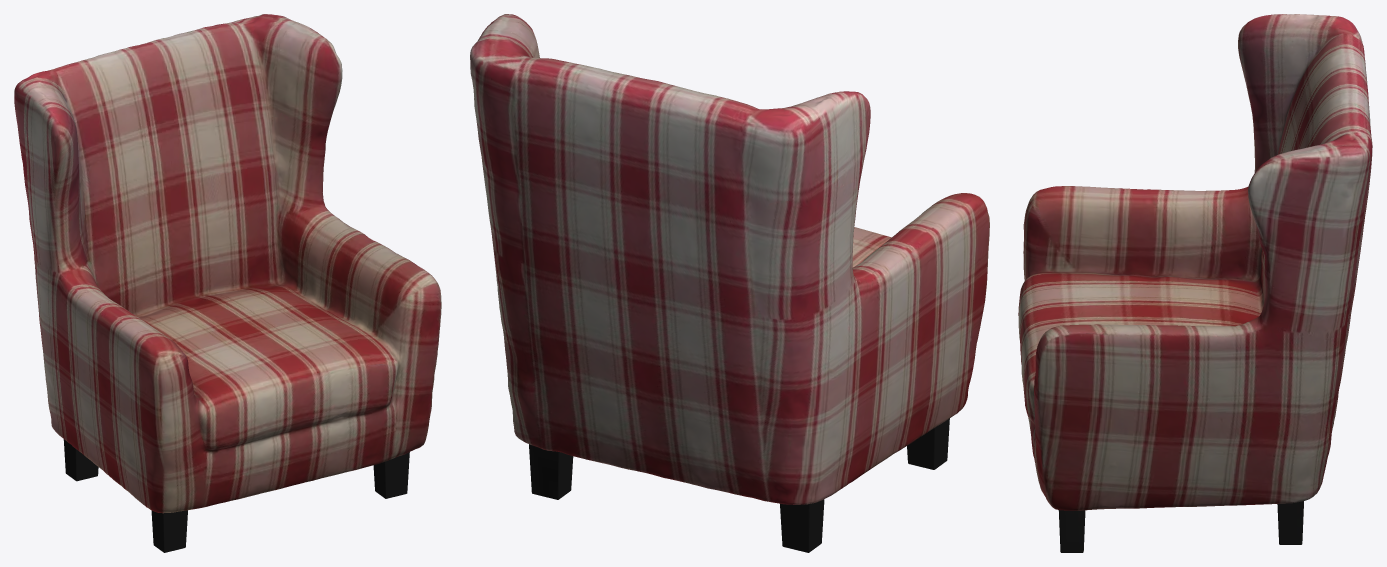
The model's file is armchair_comfy_red_white_digitalsouls.glb.
3 renders of one model, left to right at view 1: azimuth 30°, elevation 25°; view 2: azimuth 150°, elevation 25°; view 3: azimuth 270°, elevation 25°, orthographic. The views are drawn at different scales.
Parts seen in each view (by area): view 1: Object_2; view 2: Object_2; view 3: Object_2.
Part boxes in pixels (x1,y1,x2,y2): Object_2: [14, 14, 441, 552]; Object_2: [470, 14, 989, 552]; Object_2: [1018, 14, 1372, 552].
Bounding box in the file's own units: 5.39 × 6.65 × 5.23.
1 material, 1 textured.
